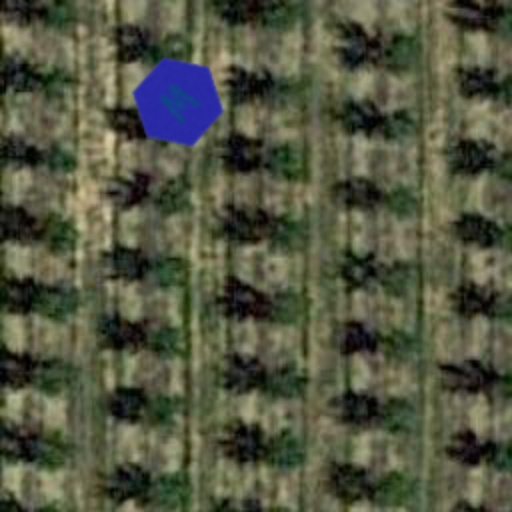hexagon: (110, 34, 246, 170)
